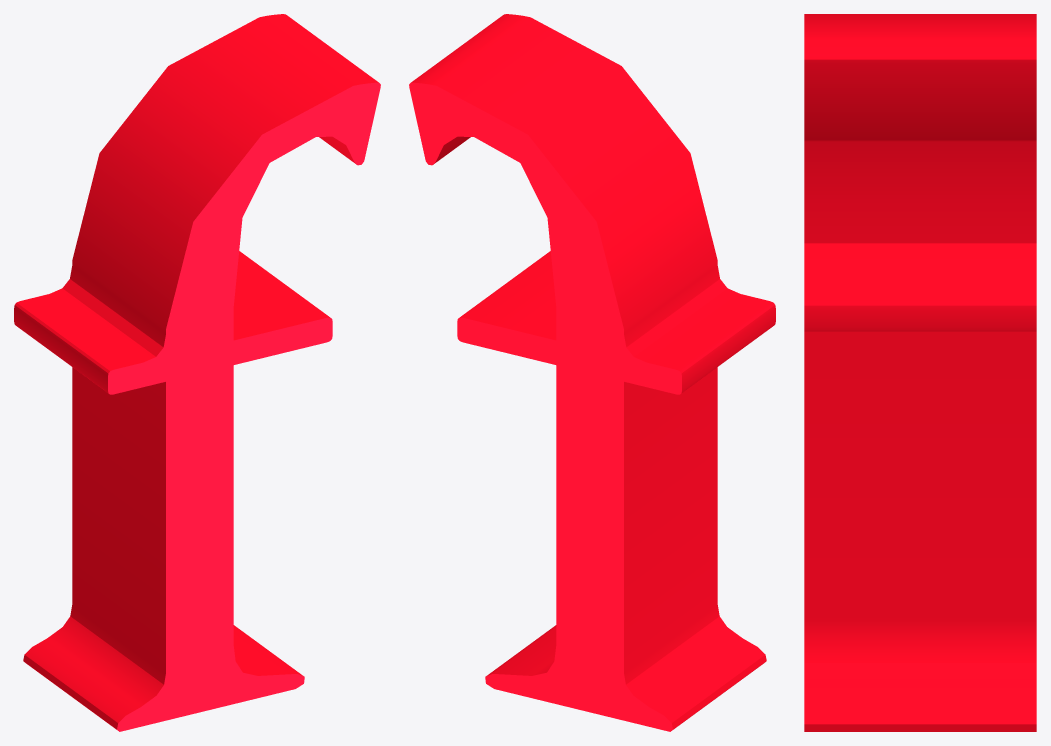
Rendered from F_Soul_Red.glb.
The picture shows the model from 3 angles, left to right: view 1: azimuth 30°, elevation 25°; view 2: azimuth 150°, elevation 25°; view 3: azimuth 270°, elevation 25°; orthographic projection. The views are drawn at different scales.
Visible parts, largest first — view 1: f_Soul_Red; view 2: f_Soul_Red; view 3: f_Soul_Red.
Boxes of the visible parts, x1,y1,x2,y2 form: f_Soul_Red: (14,14,380,731); f_Soul_Red: (409,14,775,731); f_Soul_Red: (804,14,1036,731).
Size of what is drawn, in the model's own units: 0.0756 by 0.1559 by 0.045.
2 materials, 2 textured.
